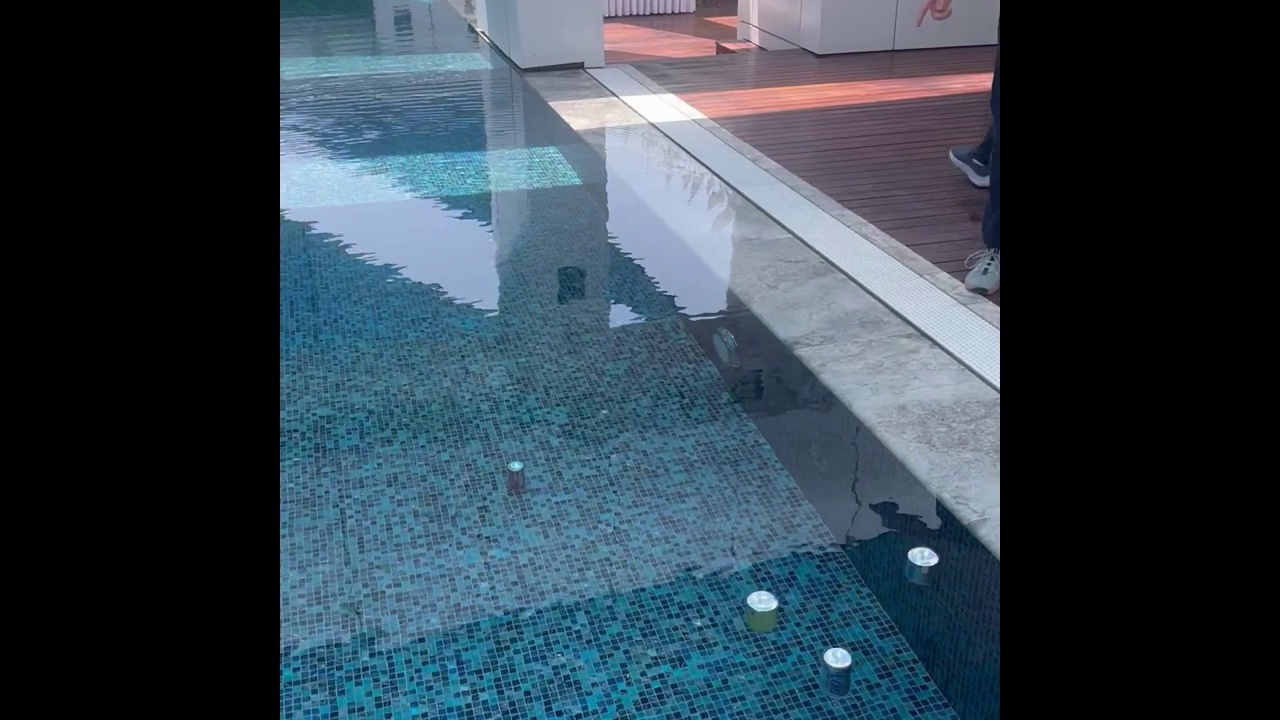debris: (817, 643, 856, 703), (741, 585, 780, 638), (905, 544, 939, 591), (502, 456, 528, 495)
